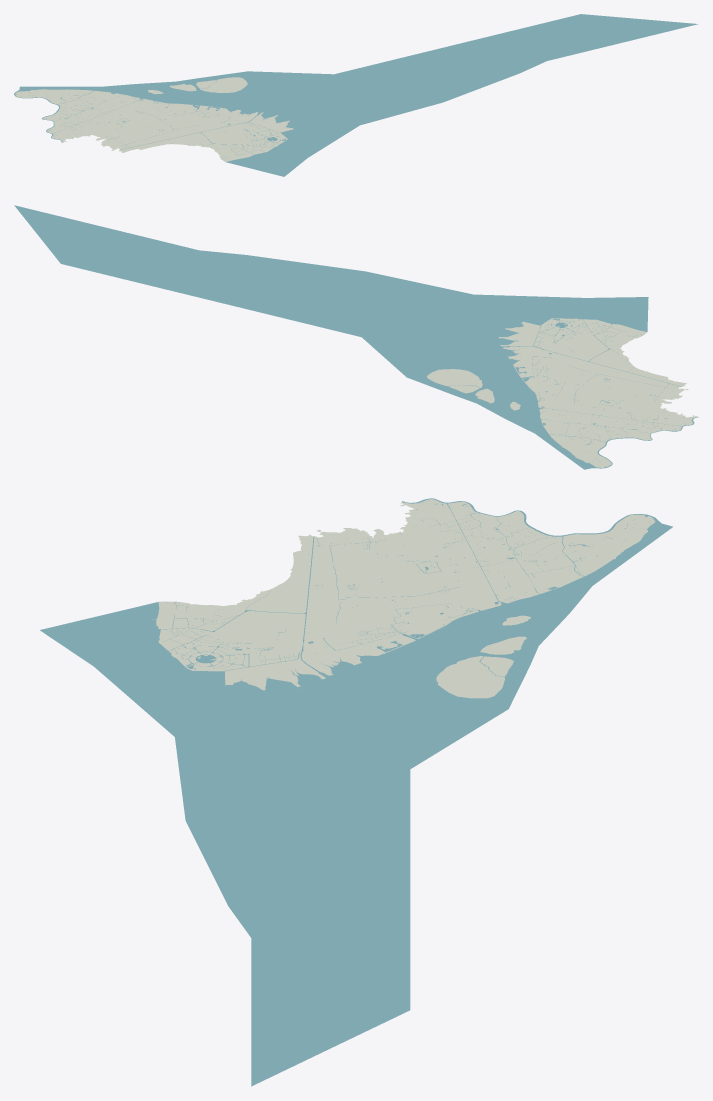
3 views of the same model, one above another, from view 1: azimuth 30°, elevation 25°; view 2: azimuth 150°, elevation 25°; view 3: azimuth 270°, elevation 25° (orthographic). The views are drawn at different scales.
Parts seen in each view (by area): view 1: mapped-water, ground-proxy; view 2: mapped-water, ground-proxy; view 3: mapped-water, ground-proxy.
Boxes of the visible parts, x1,y1,x2,y2 form: mapped-water: (14, 14, 698, 176); ground-proxy: (15, 77, 293, 161); mapped-water: (14, 205, 698, 469); ground-proxy: (427, 318, 697, 467); mapped-water: (40, 498, 672, 1086); ground-proxy: (152, 499, 655, 698).
Bounding box in the file's own units: 169111 × 0 × 77046.
